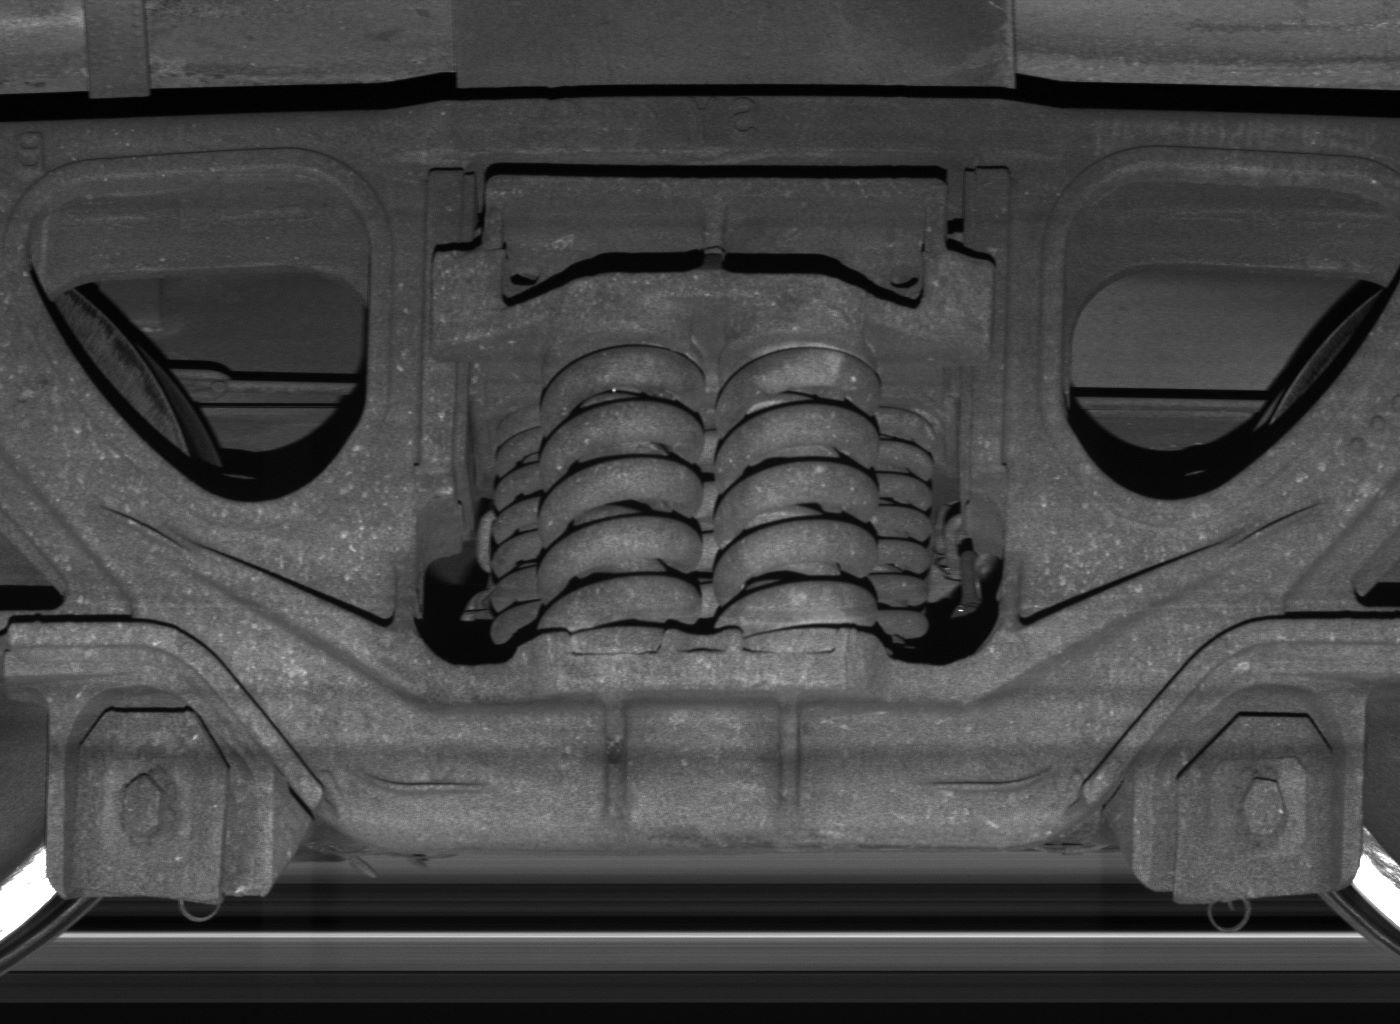Locking plate: (1133, 682, 1365, 895)
normal: (45, 682, 270, 907)
